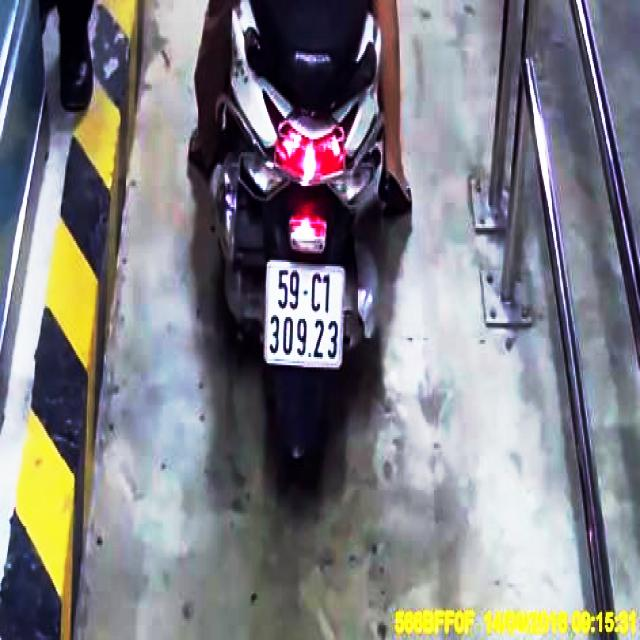license_plate: (267, 261, 346, 369)
